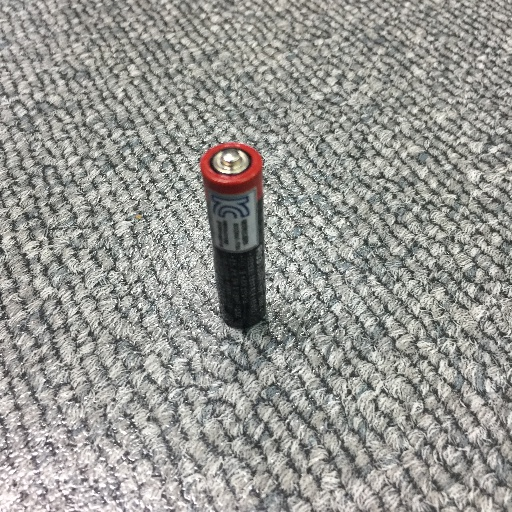Battery_0: (197, 135, 275, 338)
